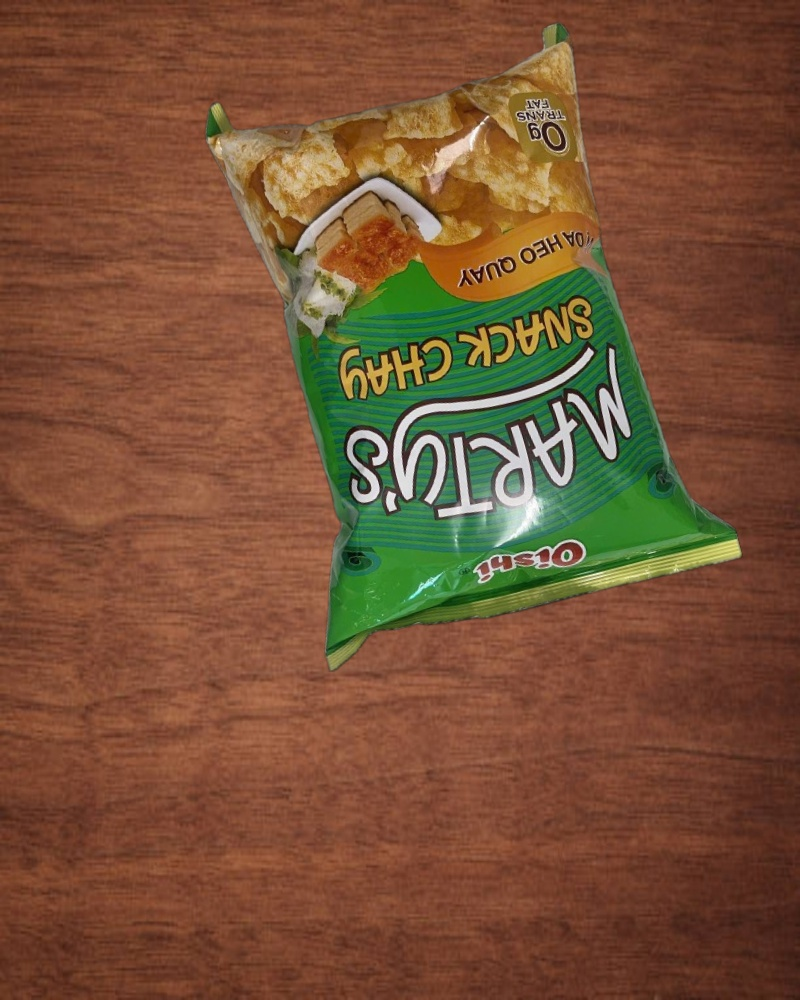Snack chay: (201, 3, 744, 667)
